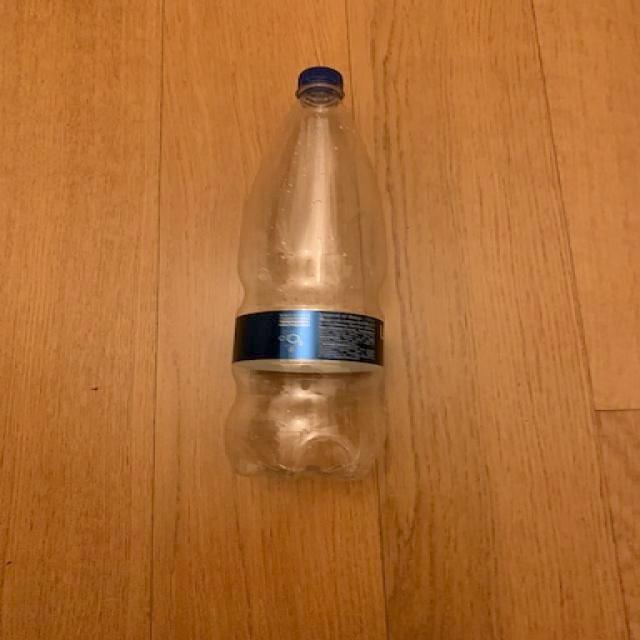bottle: (227, 66, 386, 481)
